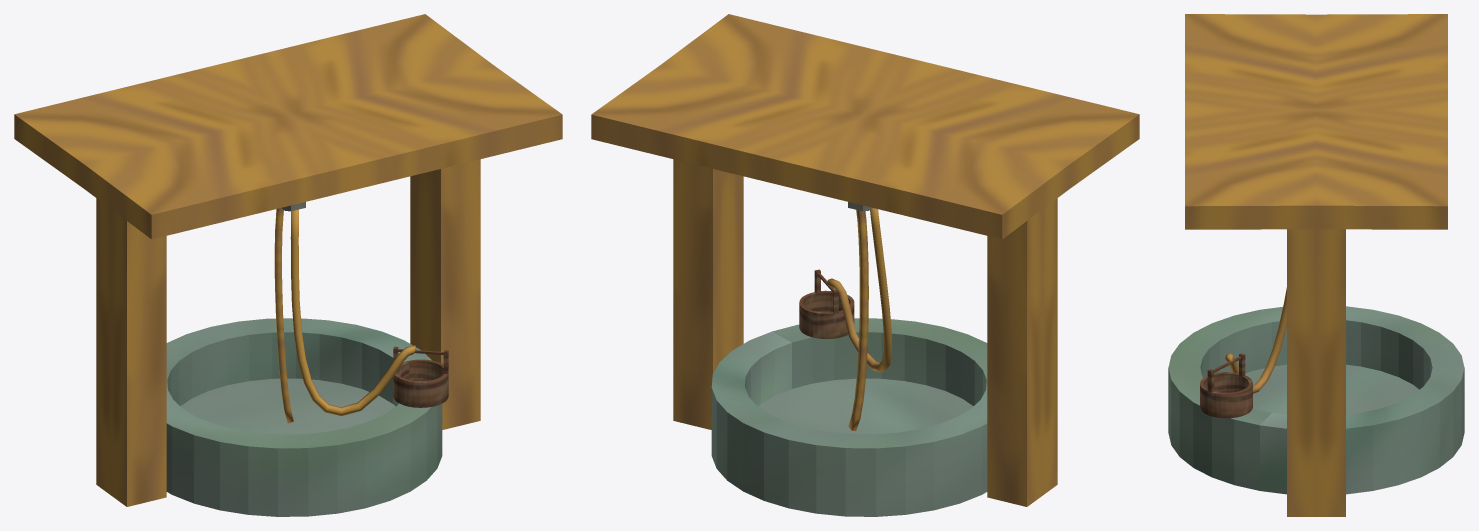
File: ido.fbx
3 renders of one model, left to right at view 1: azimuth 30°, elevation 25°; view 2: azimuth 150°, elevation 25°; view 3: azimuth 270°, elevation 25°, orthographic. The views are drawn at different scales.
Parts seen in each view (by area): view 1: ido_yane, ido, himo, oke, himo2; view 2: ido_yane, ido, oke, himo, himo2; view 3: ido_yane, ido, oke, himo.
Part boxes in pixels (box(x1,y1,x2,y2)): ido_yane: box(14, 14, 562, 506); ido: box(166, 318, 442, 516); himo: box(290, 209, 416, 416); oke: box(393, 346, 448, 407); himo2: box(274, 208, 293, 423); ido_yane: box(591, 14, 1139, 506); ido: box(711, 318, 987, 516); oke: box(799, 269, 854, 338); himo: box(827, 208, 891, 372); himo2: box(848, 210, 868, 430); ido_yane: box(1185, 14, 1447, 516); ido: box(1168, 306, 1464, 494); oke: box(1200, 353, 1252, 418); himo: box(1225, 287, 1286, 393).
Size of the model in its own units: 722 by 568 by 470.
Materials: 5 (5 with a texture image).
